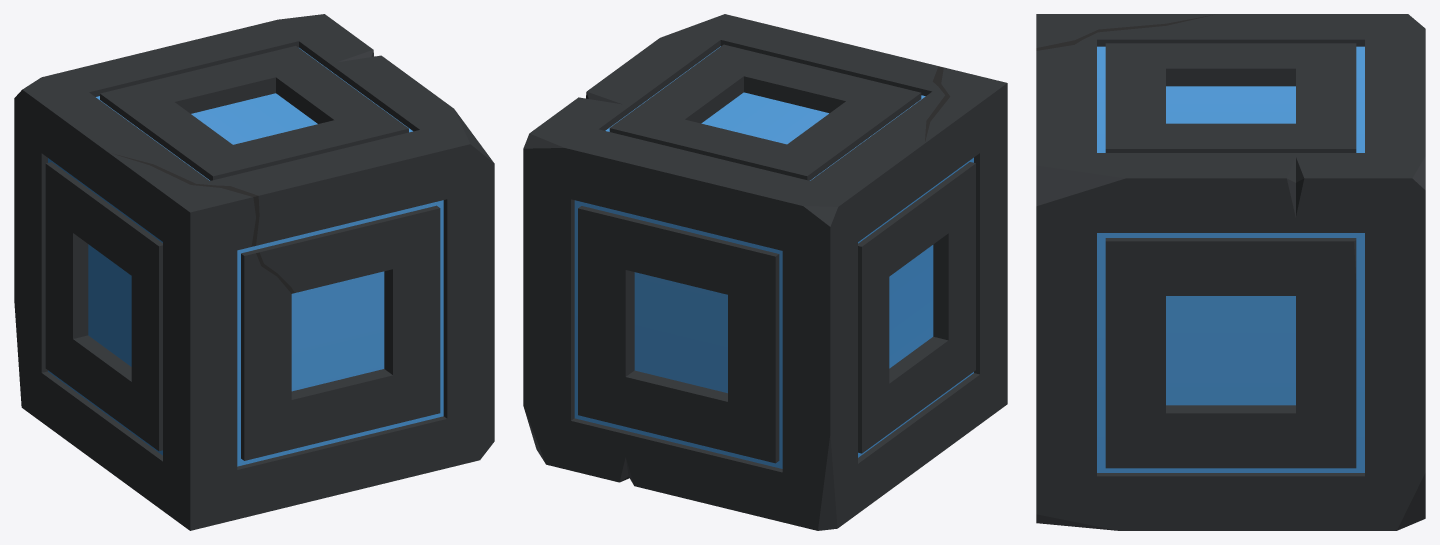
The model's file is MagicCube_01.fbx.
3 views of the same model, side by side, from view 1: azimuth 30°, elevation 25°; view 2: azimuth 150°, elevation 25°; view 3: azimuth 270°, elevation 25° (orthographic). The views are drawn at different scales.
Parts seen in each view (by area): view 1: MagicCube_01_LOD0; view 2: MagicCube_01_LOD0; view 3: MagicCube_01_LOD0.
Part boxes in pixels (x1,y1,x2,y2): MagicCube_01_LOD0: (14,14,494,530); MagicCube_01_LOD0: (523,14,1007,530); MagicCube_01_LOD0: (1036,14,1425,530).
Size of what is drawn, in the model's own units: 1 by 1 by 1.
